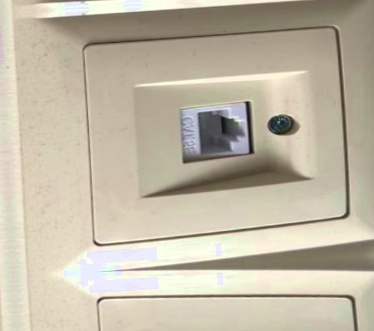Network Outlet: (122, 65, 326, 200)
